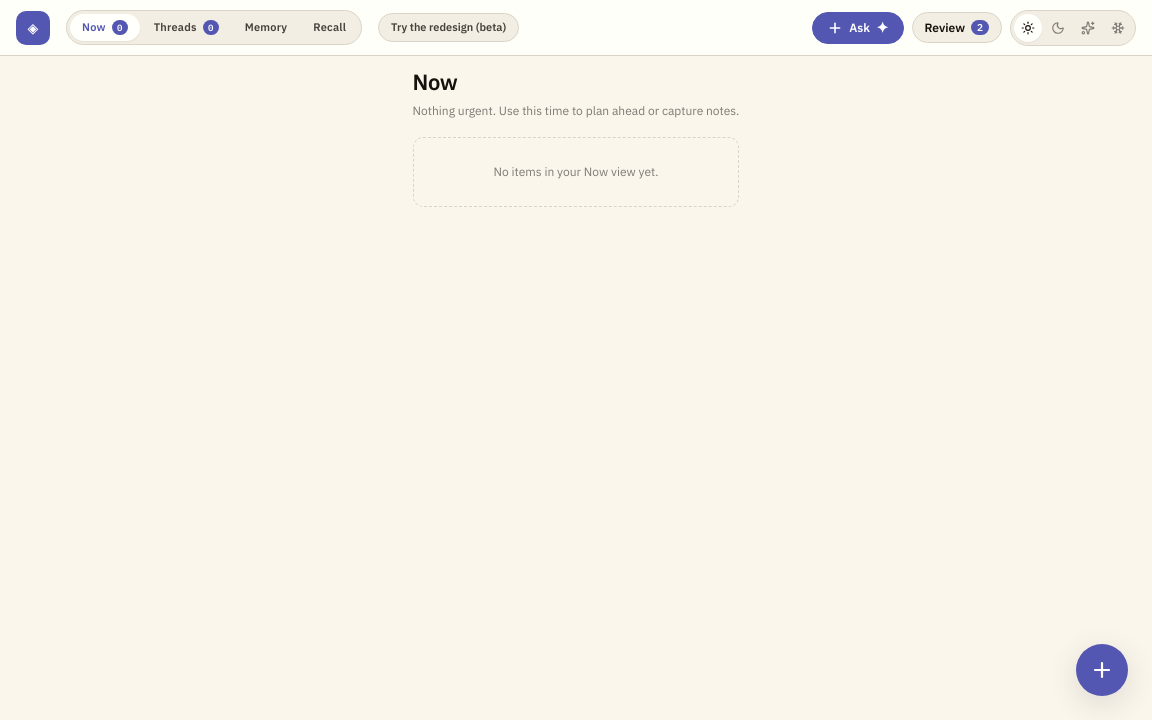
Legacy V5 App shell › opens the review sheet from the top bar badge
The image size is (1152, 720).
Click the button with aria-label "Review 2 pending suggestions" at (957, 28), box 912,12 -> 1002,43
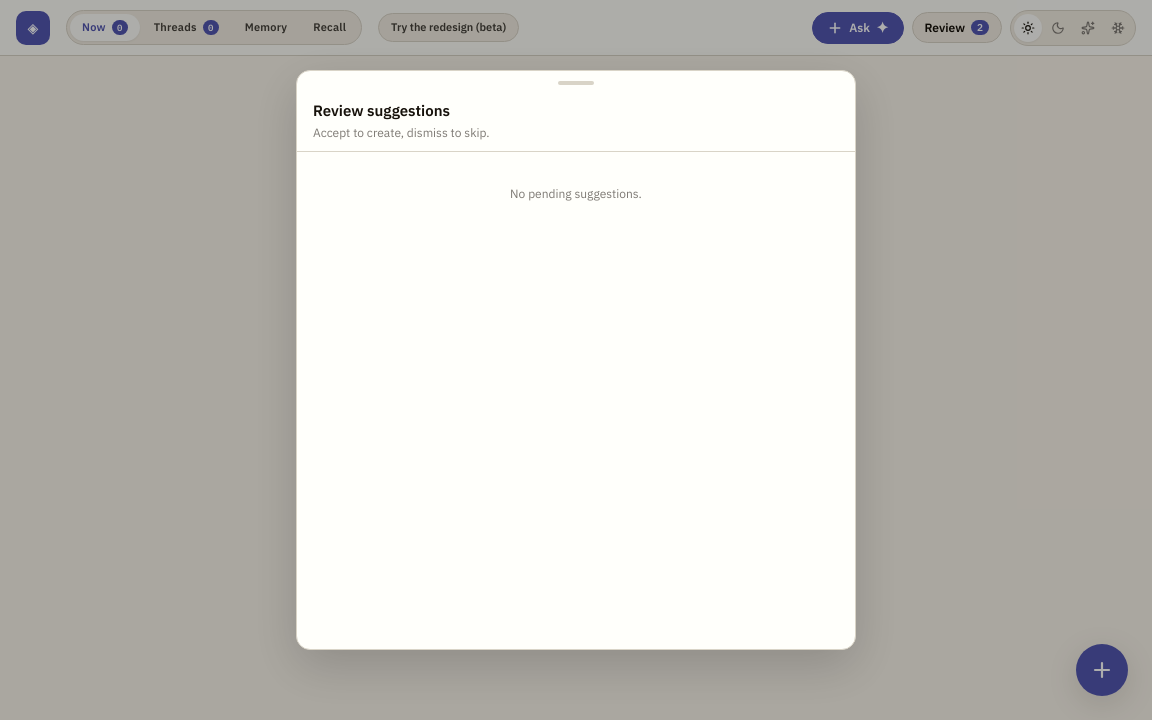
Expected: the dialog "Review suggestions" is shown, 296,70 -> 856,650
